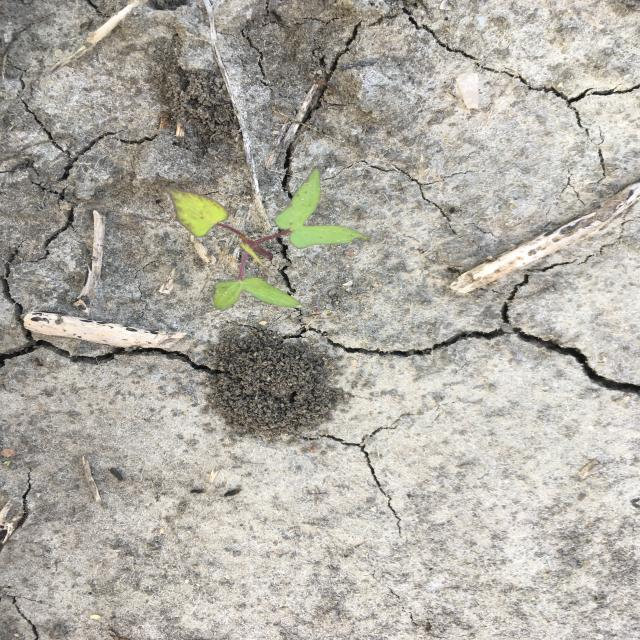MorningGlory: (163, 168, 374, 313)
